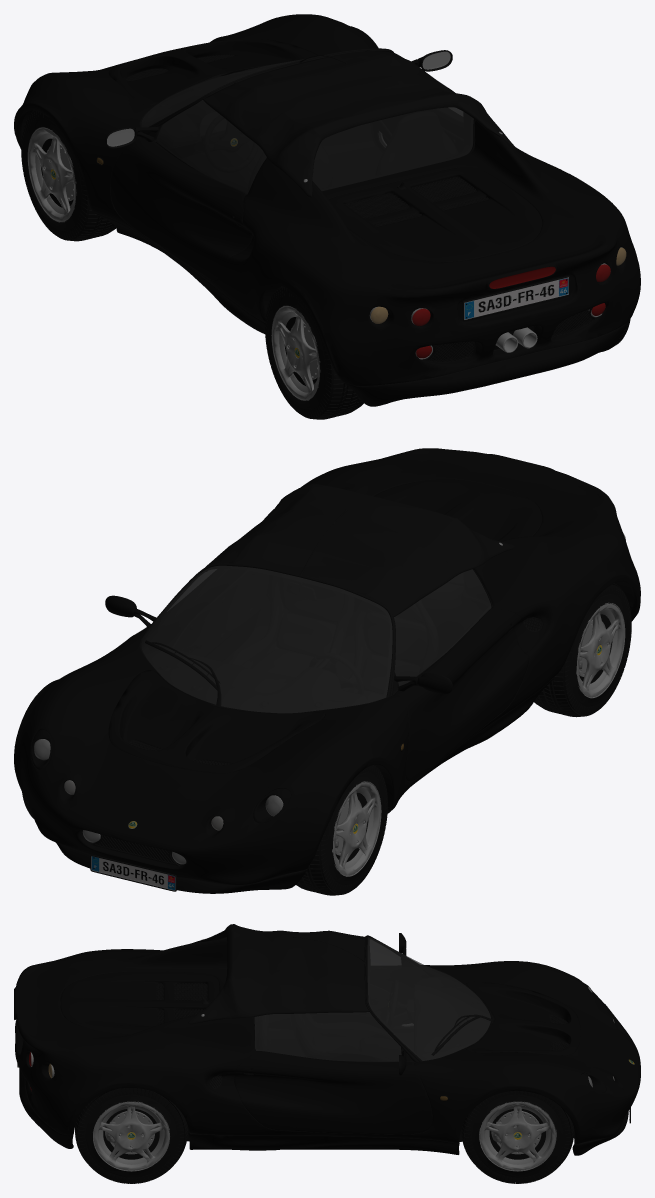
Rendered from elise.glb.
3 renders of one model, top to bottom at view 1: azimuth 30°, elevation 25°; view 2: azimuth 150°, elevation 25°; view 3: azimuth 270°, elevation 25°, orthographic. The views are drawn at different scales.
Visible parts, largest first — view 1: part2, part20, part45, part31, part18, wheel_RF, wheel_RB, part48, part16, part33, part3, part28 (+9 smaller); view 2: part2, part42, part20, part45, part48, part31, wheel_RF, wheel_RB, part33, part53, part36, part41 (+8 smaller); view 3: part2, part20, part37, part45, part42, wheel_LF, wheel_LB, part39, part48, part53, part29, part16 (+4 smaller).
Boxes of the visible parts, left/top/right/bottom form: part2: left=14, top=14, right=640, bottom=406; part20: left=37, top=39, right=542, bottom=333; part45: left=203, top=50, right=514, bottom=197; part31: left=105, top=126, right=252, bottom=280; part18: left=312, top=107, right=473, bottom=190; wheel_RF: left=265, top=286, right=363, bottom=419; wheel_RB: left=21, top=110, right=116, bottom=241; part48: left=148, top=71, right=457, bottom=175; part16: left=21, top=54, right=596, bottom=363; part33: left=156, top=100, right=266, bottom=194; part3: left=144, top=75, right=382, bottom=191; part28: left=464, top=277, right=568, bottom=319; part2: left=14, top=448, right=640, bottom=885; part42: left=141, top=565, right=392, bottom=713; part20: left=29, top=479, right=554, bottom=893; part45: left=206, top=483, right=514, bottom=616; part48: left=149, top=575, right=367, bottom=711; part31: left=393, top=607, right=528, bottom=781; wheel_RF: left=534, top=583, right=631, bottom=717; wheel_RB: left=296, top=764, right=387, bottom=895; part33: left=394, top=569, right=491, bottom=686; part53: left=343, top=600, right=438, bottom=699; part36: left=110, top=569, right=268, bottom=656; part41: left=142, top=563, right=395, bottom=712; part2: left=14, top=937, right=640, bottom=1148; part20: left=60, top=971, right=628, bottom=1155; part37: left=234, top=1050, right=432, bottom=1134; part45: left=187, top=924, right=369, bottom=1024; part42: left=367, top=937, right=490, bottom=1060; wheel_LF: left=75, top=1088, right=187, bottom=1183; wheel_LB: left=461, top=1091, right=574, bottom=1183; part39: left=254, top=1012, right=401, bottom=1061; part48: left=256, top=977, right=488, bottom=1059; part53: left=290, top=1013, right=400, bottom=1061; part29: left=255, top=967, right=428, bottom=1029; part16: left=23, top=983, right=633, bottom=1147.
Size of the model in its own units: 1.92 by 1.28 by 3.79.
Materials: 17 (3 with a texture image).
